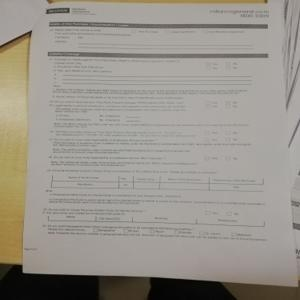image: (44, 3, 73, 15)
table: (48, 169, 264, 192)
text: (50, 58, 260, 168)
